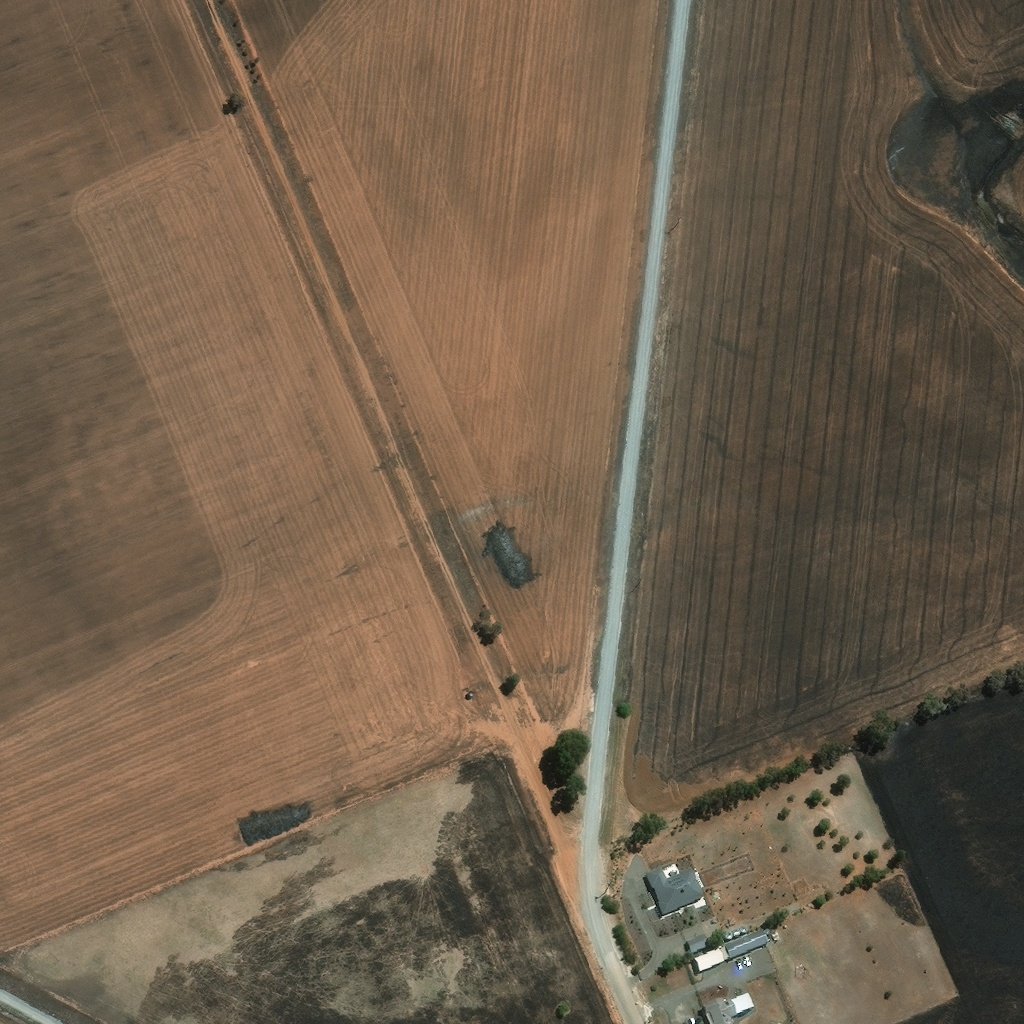0 no-damage: (643, 860, 707, 917), (725, 930, 769, 958), (693, 948, 725, 971), (729, 993, 755, 1015), (685, 932, 712, 953), (701, 1000, 723, 1023), (723, 925, 748, 940), (773, 924, 782, 936), (730, 1015, 739, 1023)
